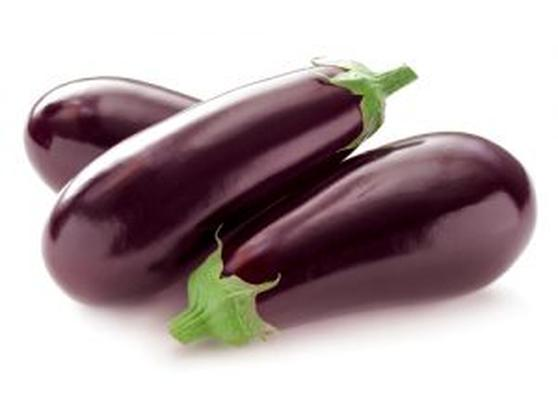eggplant: (48, 54, 393, 306), (184, 133, 539, 344)
